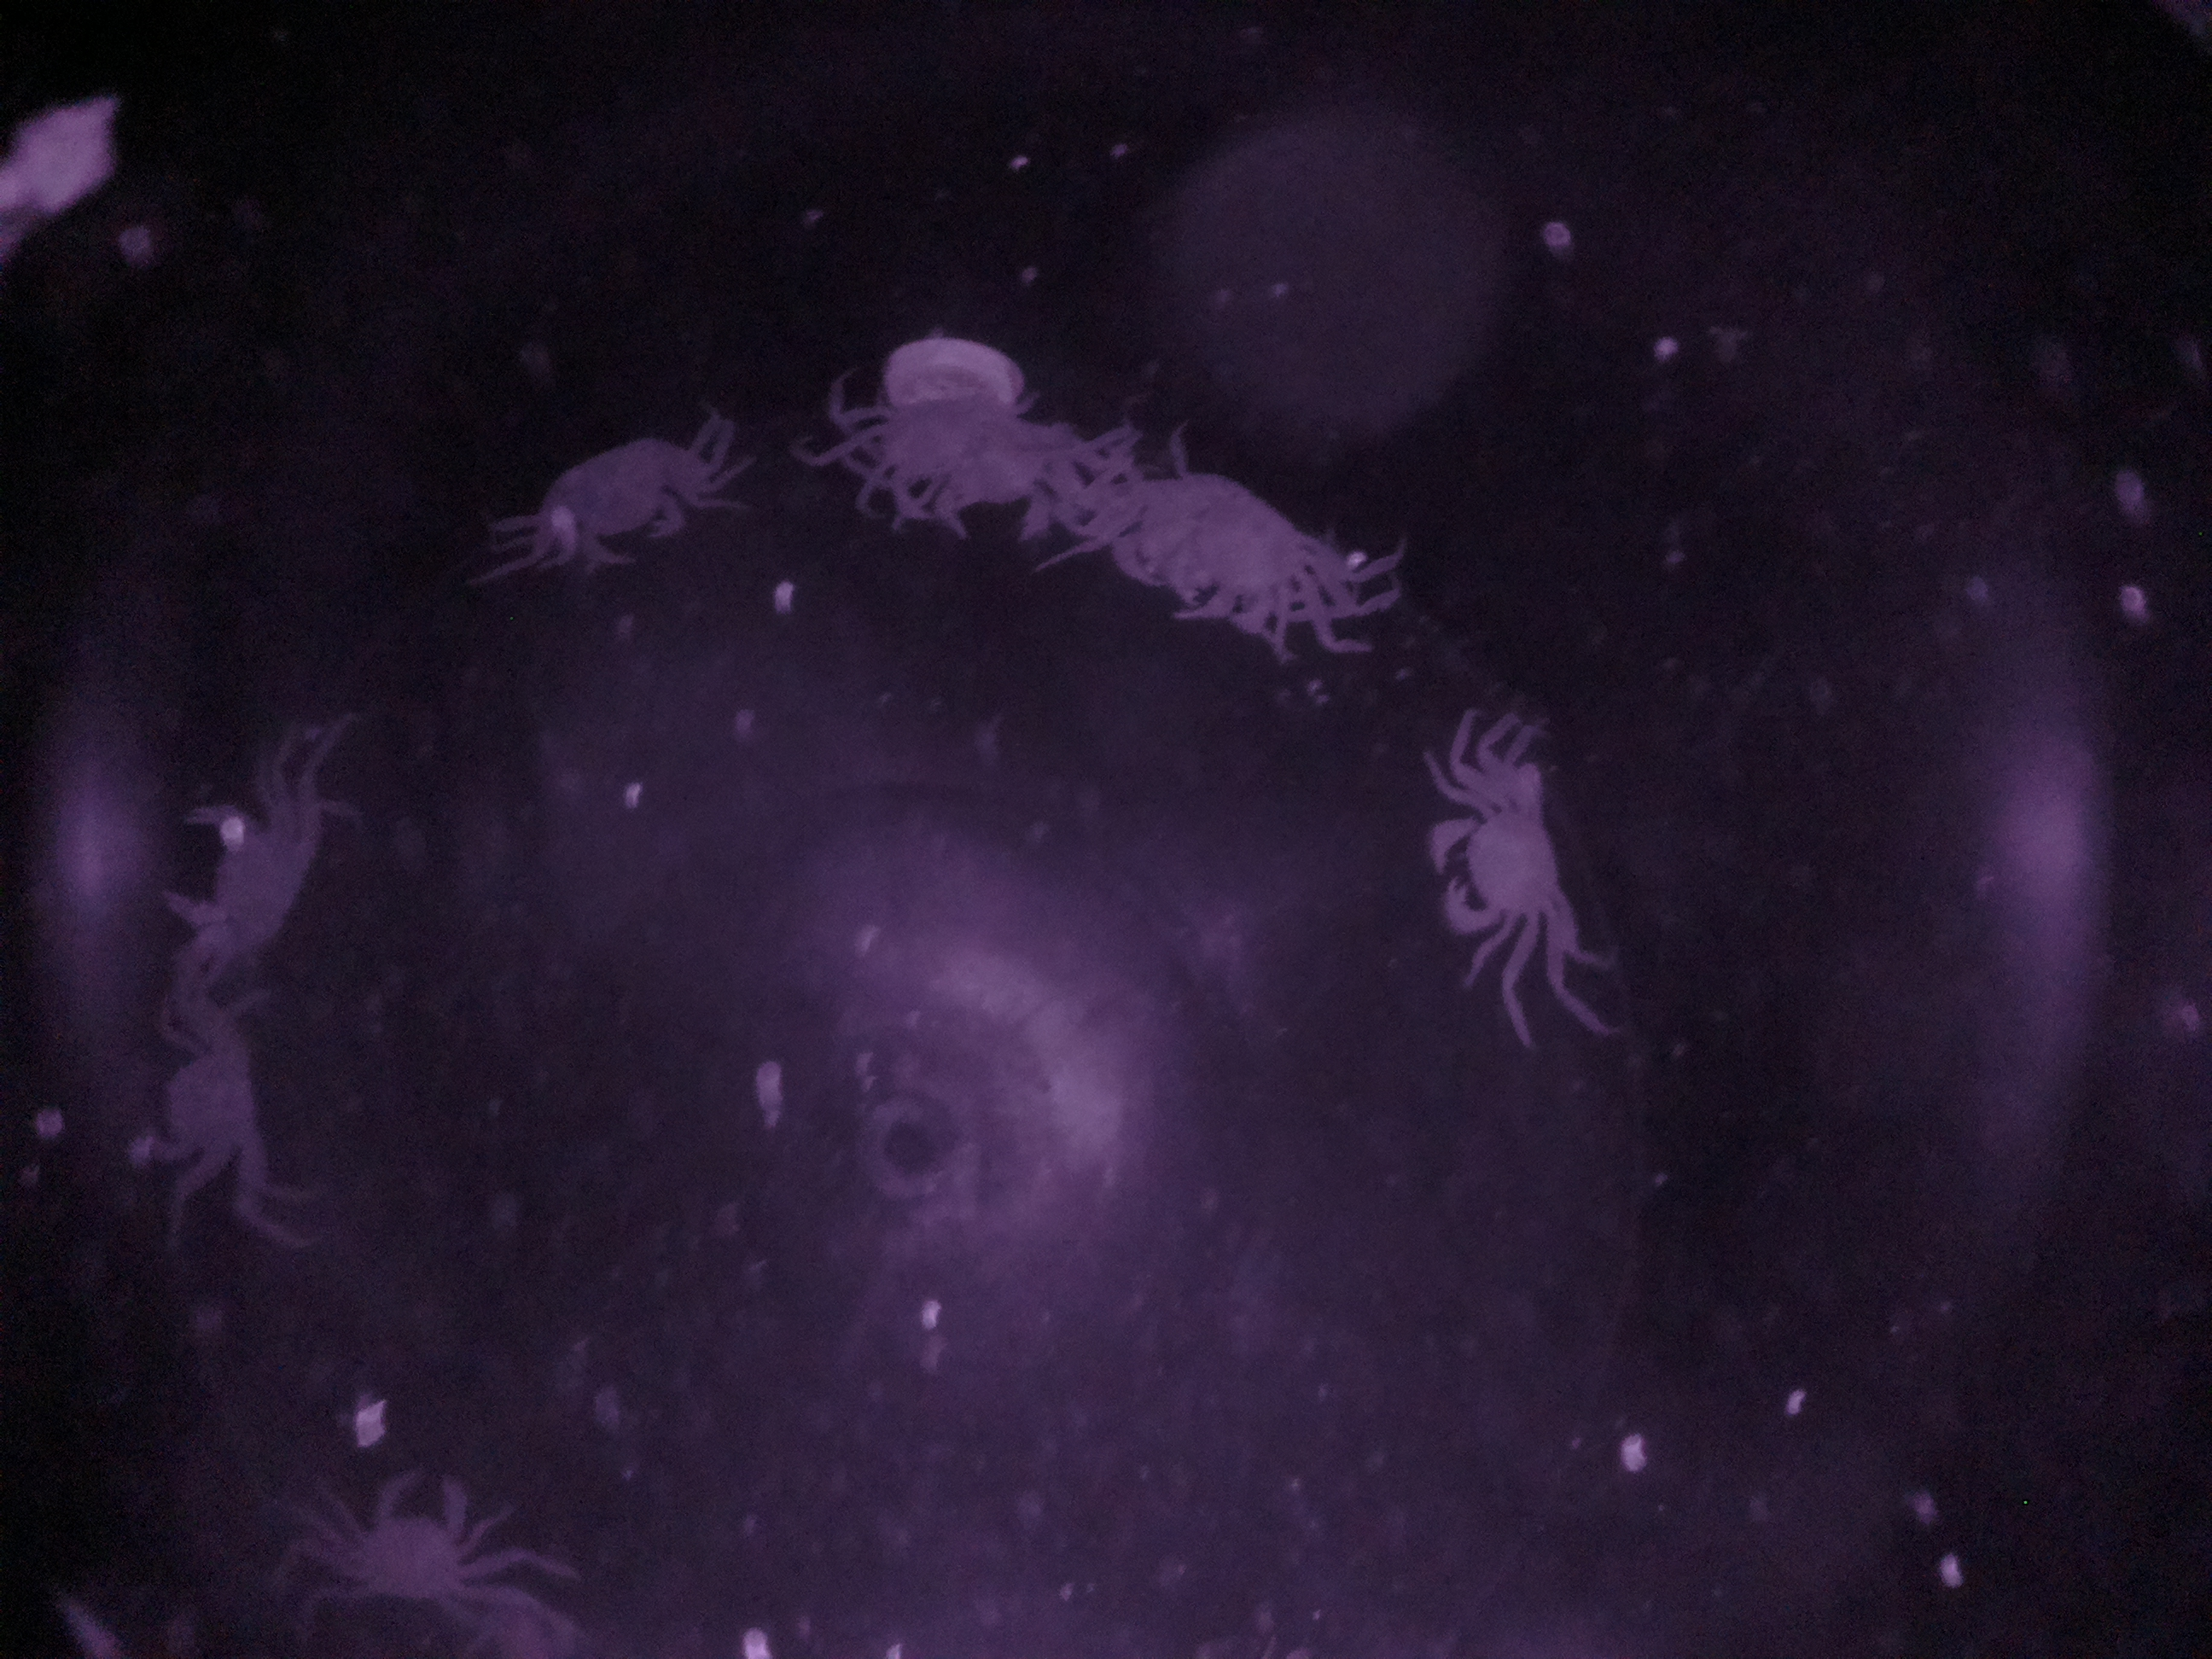Crab: (1414, 753, 1604, 983), (507, 418, 730, 584), (307, 1452, 505, 1622)
